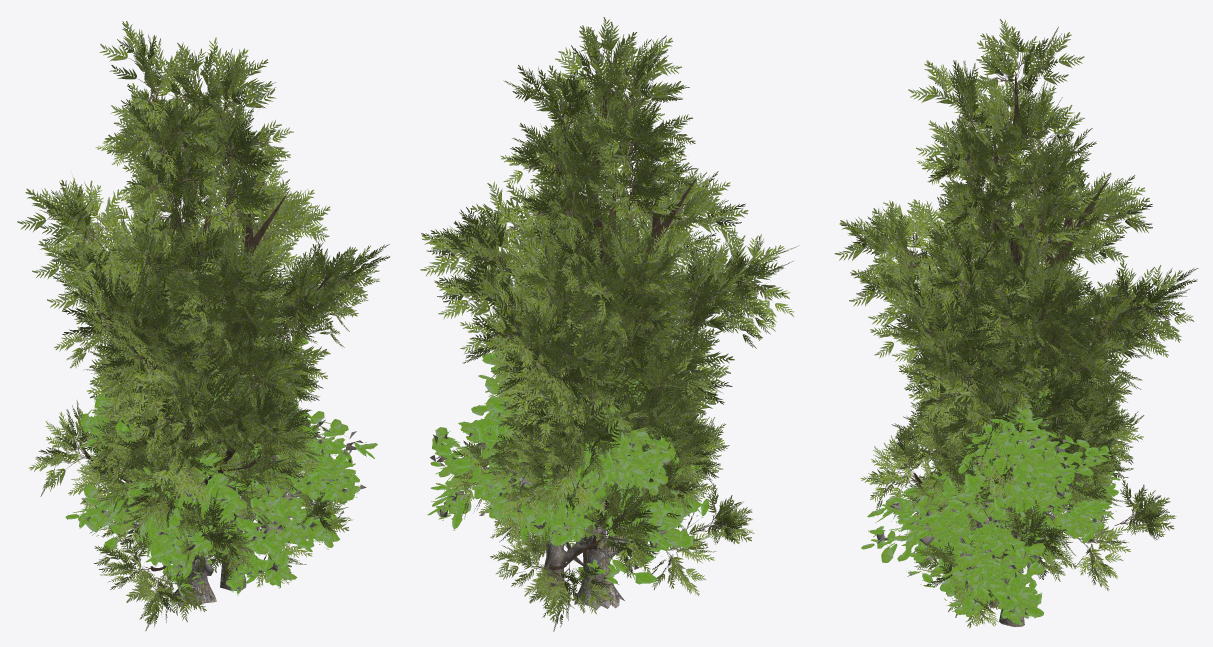
Rendered from forest_trees.glb.
3 views of the same model, side by side, from view 1: azimuth 30°, elevation 25°; view 2: azimuth 150°, elevation 25°; view 3: azimuth 270°, elevation 25° (orthographic). The views are drawn at different scales.
Parts seen in each view (by area): view 1: Tree2, Tree1, Tree0, Tree3, Tree4; view 2: Tree2, Tree1, Tree0, Tree3, Tree4; view 3: Tree2, Tree1, Tree0, Tree3, Tree4.
Part boxes in pixels (box(x1,y1,x2,y2)): Tree2: box(17, 21, 389, 495); Tree1: box(32, 83, 368, 504); Tree0: box(29, 214, 353, 631); Tree3: box(65, 338, 377, 597); Tree4: box(75, 367, 313, 607); Tree2: box(420, 17, 799, 510); Tree1: box(434, 74, 775, 570); Tree0: box(446, 218, 754, 631); Tree3: box(427, 344, 704, 596); Tree4: box(481, 366, 708, 610); Tree2: box(834, 19, 1198, 505); Tree1: box(849, 78, 1178, 506); Tree0: box(860, 234, 1176, 627); Tree3: box(861, 368, 1116, 626); Tree4: box(918, 368, 1120, 608).
Size of the model in its own units: 10.61 by 17.22 by 10.17.
Materials: 4 (4 with a texture image).
